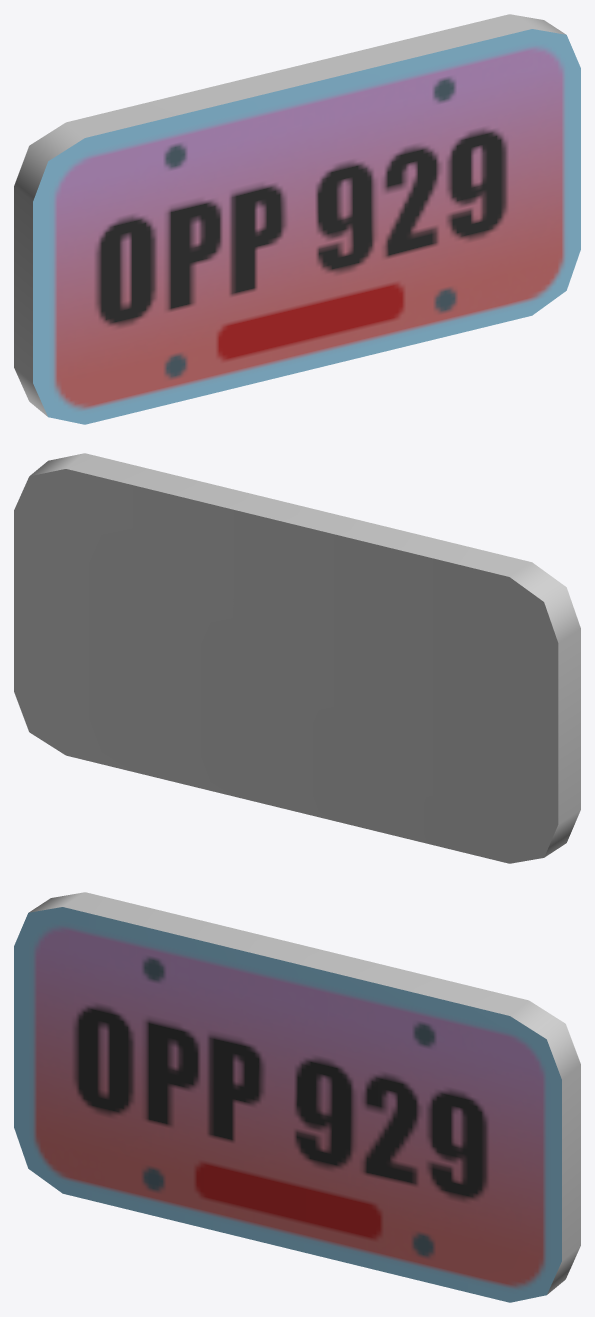
File: Car_Number_25.fbx
The picture shows the model from 3 angles, top to bottom: view 1: azimuth 30°, elevation 25°; view 2: azimuth 150°, elevation 25°; view 3: azimuth 330°, elevation 25°; orthographic projection.
Visible parts, largest first — view 1: Car_Number_25; view 2: Car_Number_25; view 3: Car_Number_25.
Part boxes in pixels (box(x1,y1,x2,y2)): Car_Number_25: box(14, 14, 580, 424); Car_Number_25: box(14, 453, 580, 863); Car_Number_25: box(14, 892, 580, 1302).
Size of the model in its own units: 49.09 by 3.48 by 24.55.
